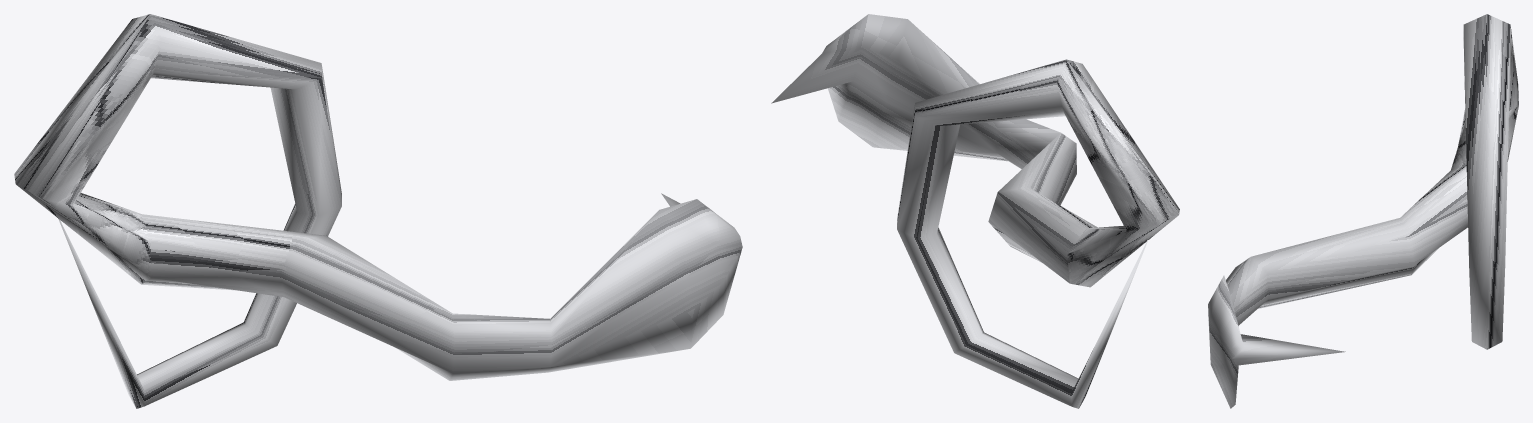
File: snake_000035.obj
3 renders of one model, left to right at view 1: azimuth 30°, elevation 25°; view 2: azimuth 150°, elevation 25°; view 3: azimuth 270°, elevation 25°, orthographic. The views are drawn at different scales.
Visible parts, largest first — view 1: Cylinder; view 2: Cylinder; view 3: Cylinder.
Part boxes in pixels (x1,y1,x2,y2): Cylinder: [14, 14, 742, 408]; Cylinder: [771, 14, 1179, 408]; Cylinder: [1208, 14, 1518, 408].
Bounding box in the file's own units: 3.68 × 2.44 × 2.2.
